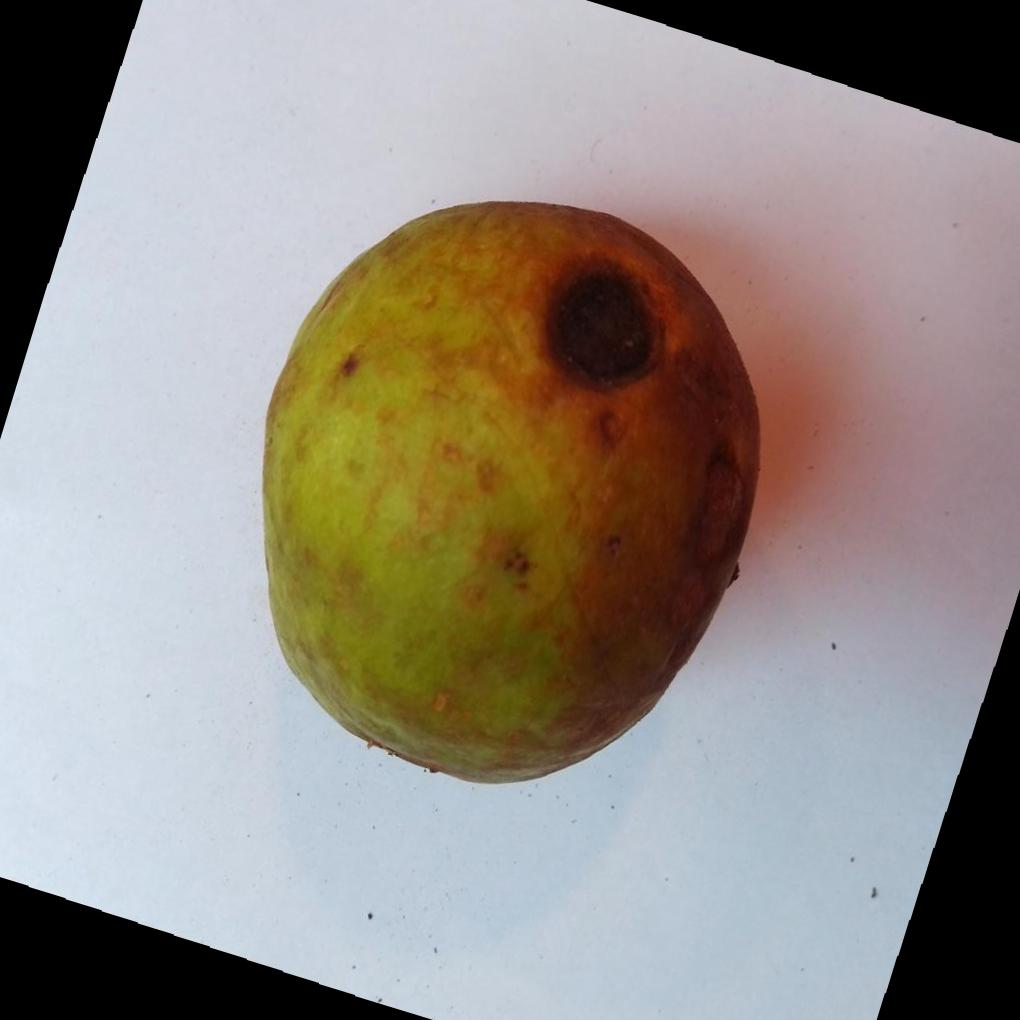FreshOrange: (256, 197, 759, 784)
